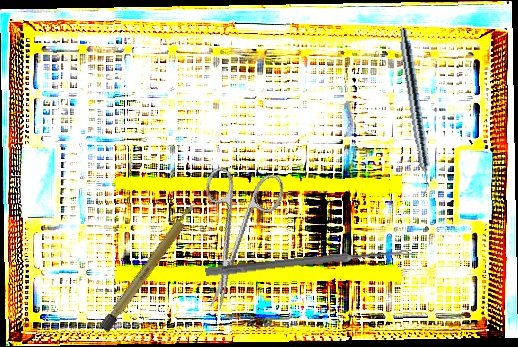Handpiece: (394, 27, 436, 198)
Iris Scissors: (175, 158, 288, 319)
Scalpel Handle: (98, 199, 201, 335)
Surgical Spoon: (205, 246, 412, 278)
